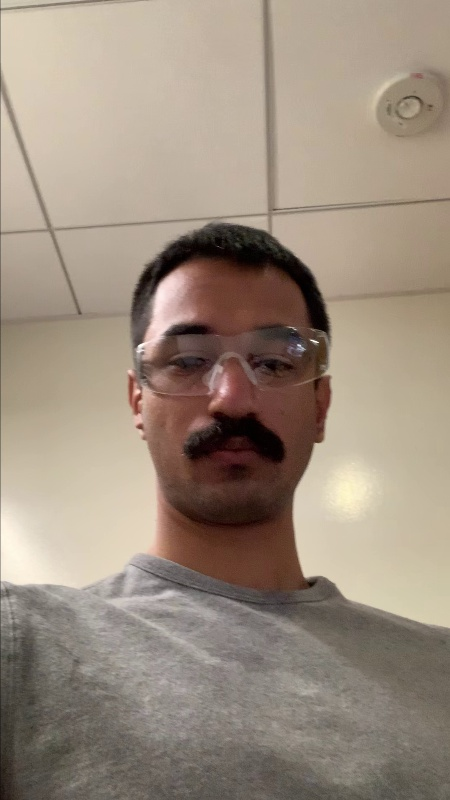glasses: (133, 330, 334, 397)
